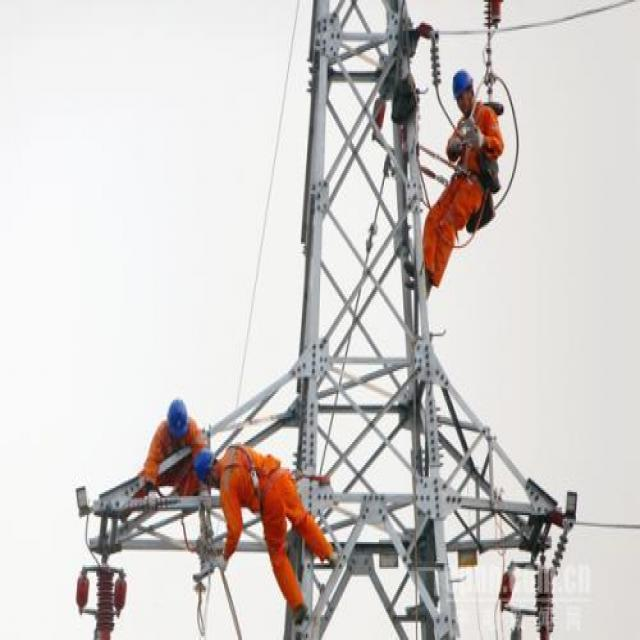hat: (191, 446, 228, 492), (163, 398, 193, 446), (448, 62, 476, 112)
